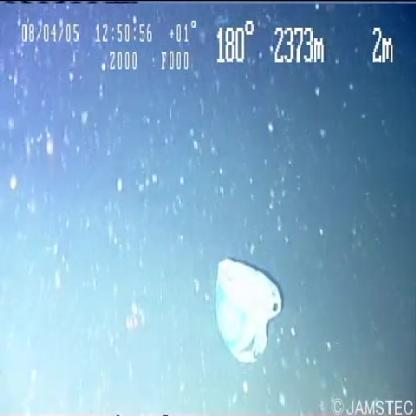Rác: (205, 246, 287, 375)
